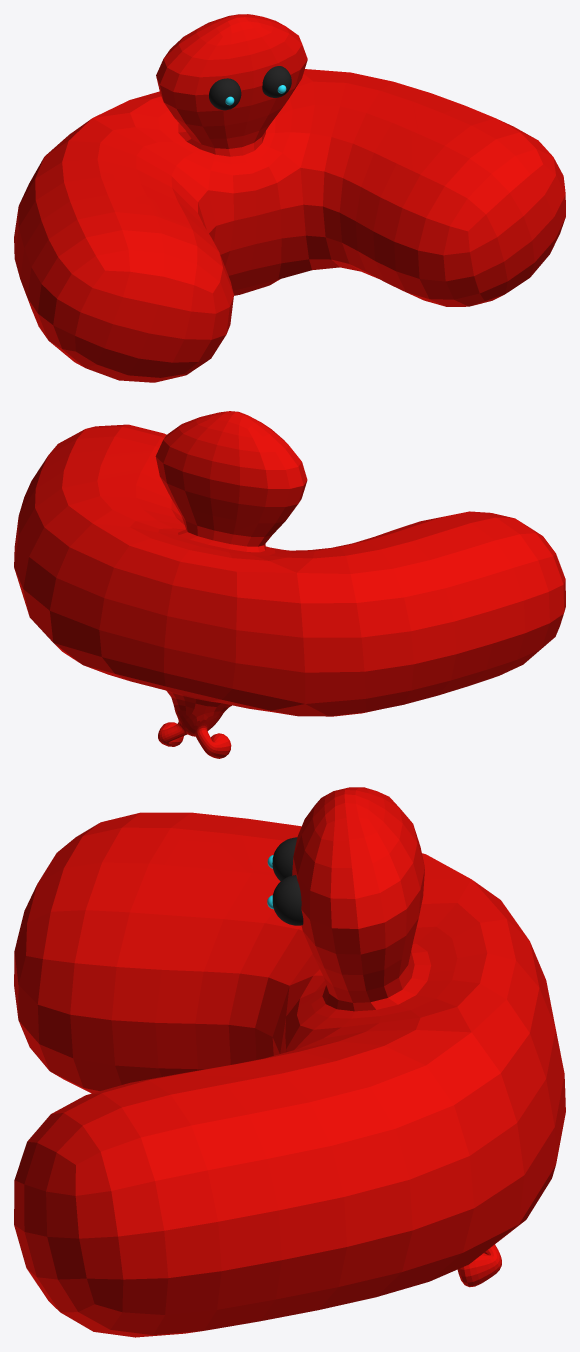
Rendered from Diego Body.gltf.
3 views of the same model, one above another, from view 1: azimuth 30°, elevation 25°; view 2: azimuth 150°, elevation 25°; view 3: azimuth 270°, elevation 25° (orthographic). The views are drawn at different scales.
Parts seen in each view (by area): view 1: Diego Body; view 2: Diego Body; view 3: Diego Body.
Part boxes in pixels (bbox=[...]): Diego Body: bbox=[14, 14, 565, 382]; Diego Body: bbox=[14, 411, 565, 758]; Diego Body: bbox=[14, 787, 565, 1337].
Bounding box in the file's own units: 8.13 × 4.7 × 4.96.
